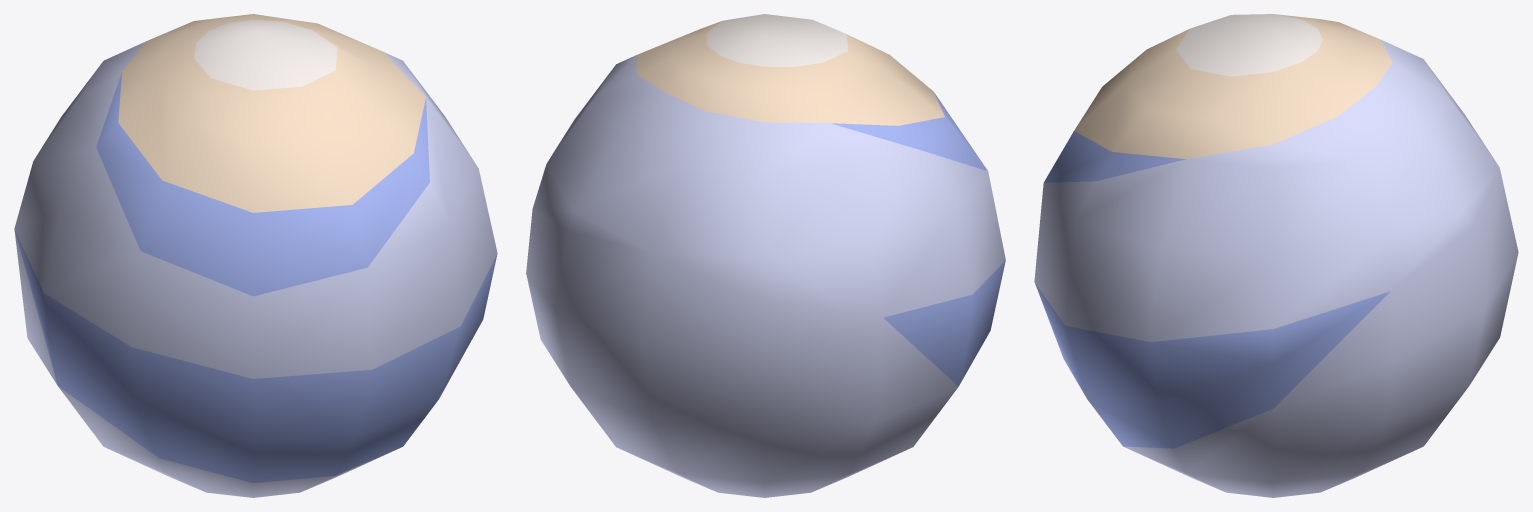
3 renders of one model, left to right at view 1: azimuth 30°, elevation 25°; view 2: azimuth 150°, elevation 25°; view 3: azimuth 270°, elevation 25°, orthographic.
Parts seen in each view (by area): view 1: model_0.058; view 2: model_0.058; view 3: model_0.058.
Part boxes in pixels (left/top/right/bottom): model_0.058: left=14, top=14, right=497, bottom=497; model_0.058: left=526, top=14, right=1005, bottom=497; model_0.058: left=1034, top=14, right=1518, bottom=497.
Size of the model in its own units: 3.31 by 3.35 by 3.3.
